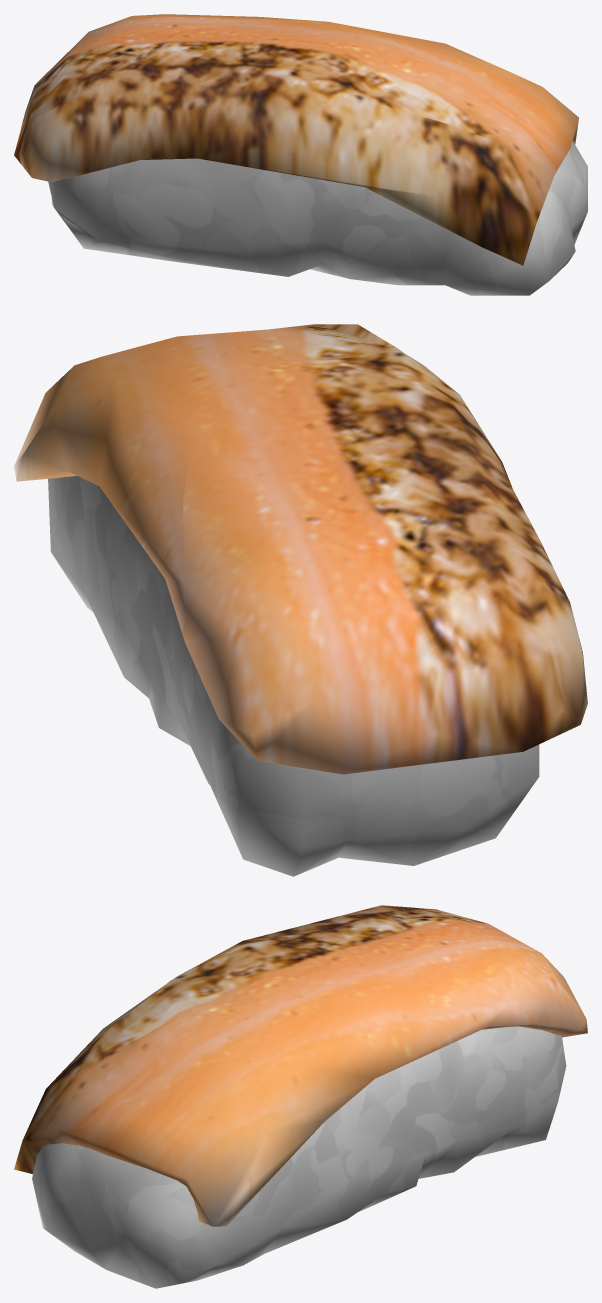
Rendered from smokesalmonsushi.fbx.
3 renders of one model, top to bottom at view 1: azimuth 30°, elevation 25°; view 2: azimuth 150°, elevation 25°; view 3: azimuth 270°, elevation 25°, orthographic. The views are drawn at different scales.
Visible parts, largest first — view 1: Salmon 4.004, Riceball 4.003; view 2: Salmon 4.004, Riceball 4.003; view 3: Salmon 4.004, Riceball 4.003.
Boxes of the visible parts, <box> form: Salmon 4.004: <box>14,14,578,265</box>; Riceball 4.003: <box>48,141,587,295</box>; Salmon 4.004: <box>14,324,587,774</box>; Riceball 4.003: <box>48,476,539,876</box>; Salmon 4.004: <box>14,905,587,1226</box>; Riceball 4.003: <box>32,1026,566,1288</box>.
Bounding box in the file's own units: 101 × 44.15 × 102.
Materials: 2 (2 with a texture image).
